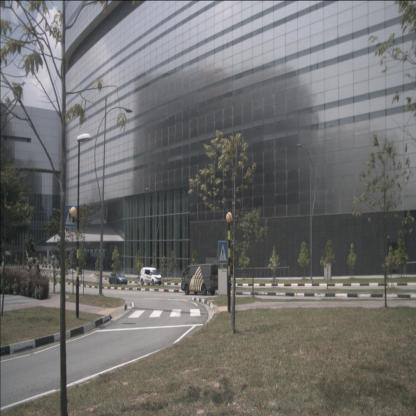vehicle-car: (181, 264, 218, 296), (140, 267, 162, 286), (108, 270, 127, 285)
